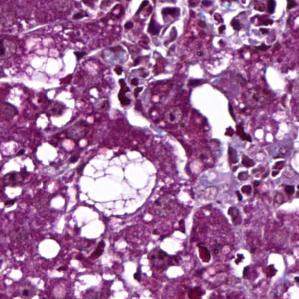ballooning: (77, 147, 159, 220)
